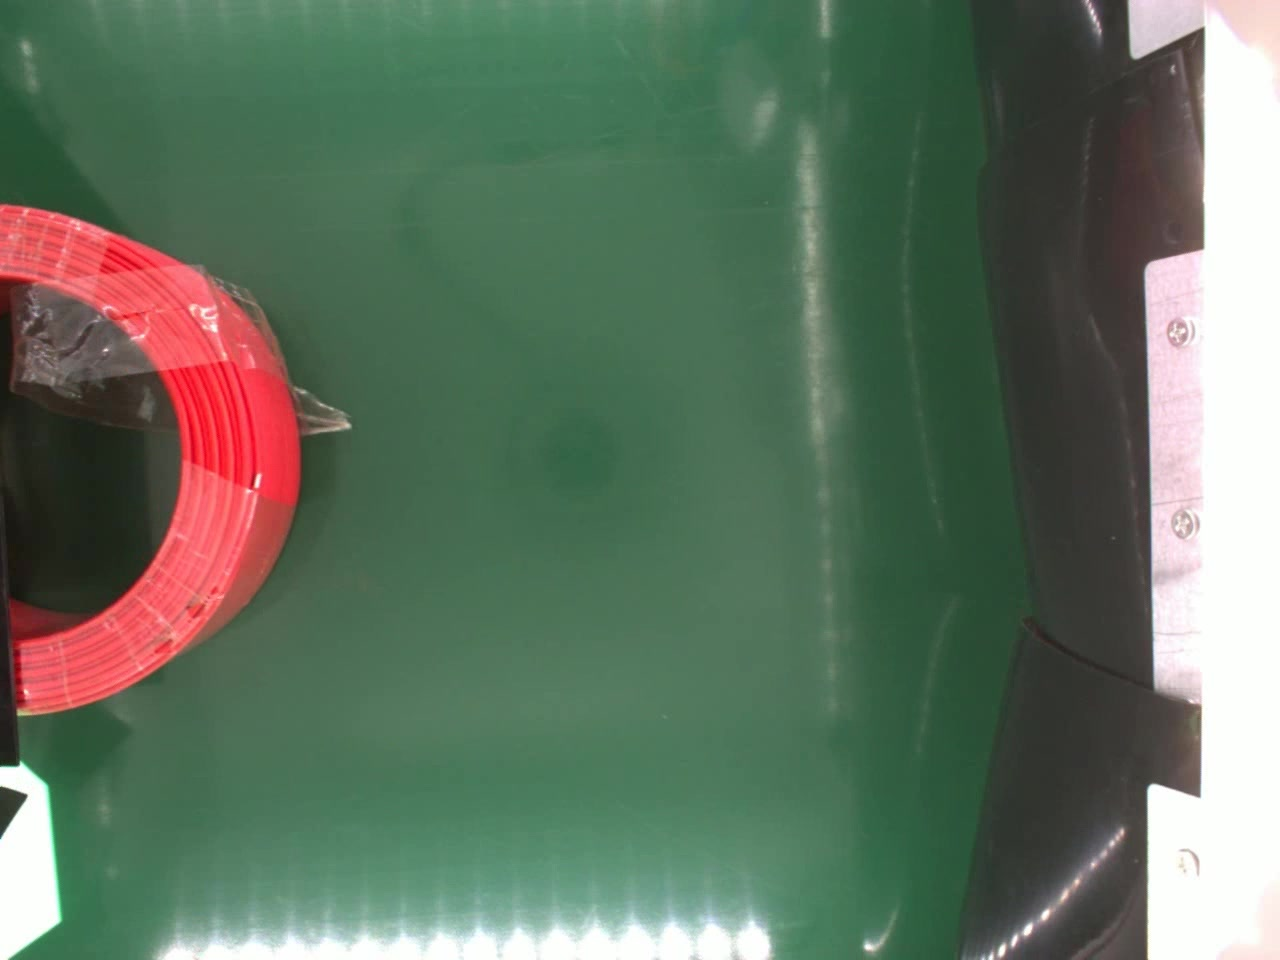red: (0, 201, 309, 721)
